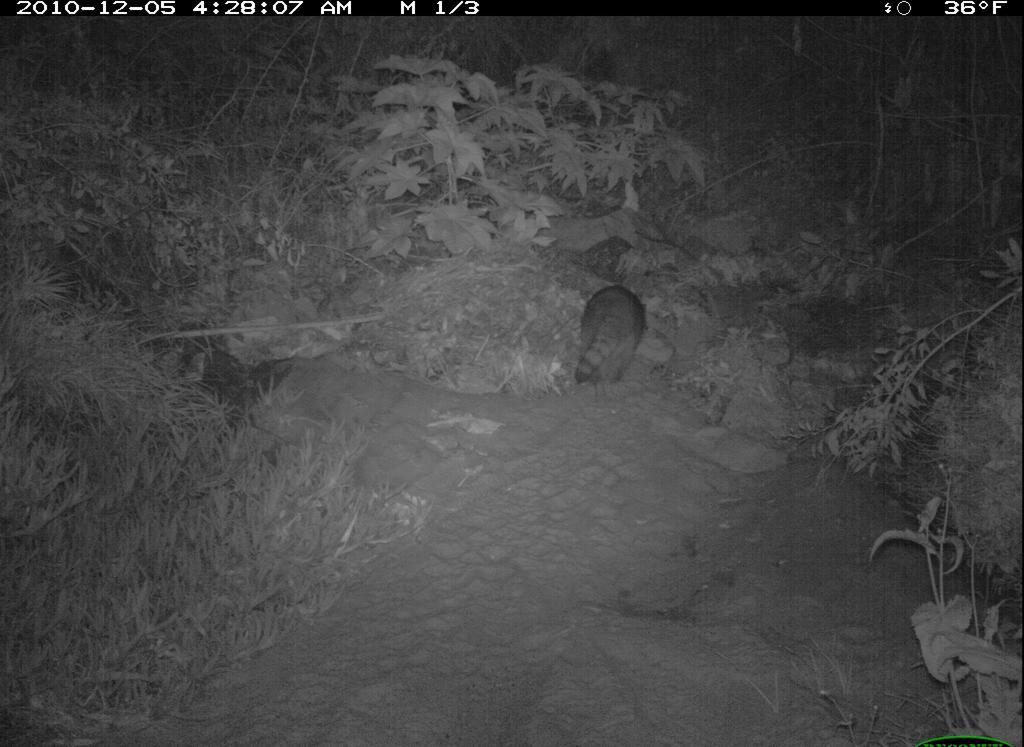raccoon: (565, 283, 656, 395)
